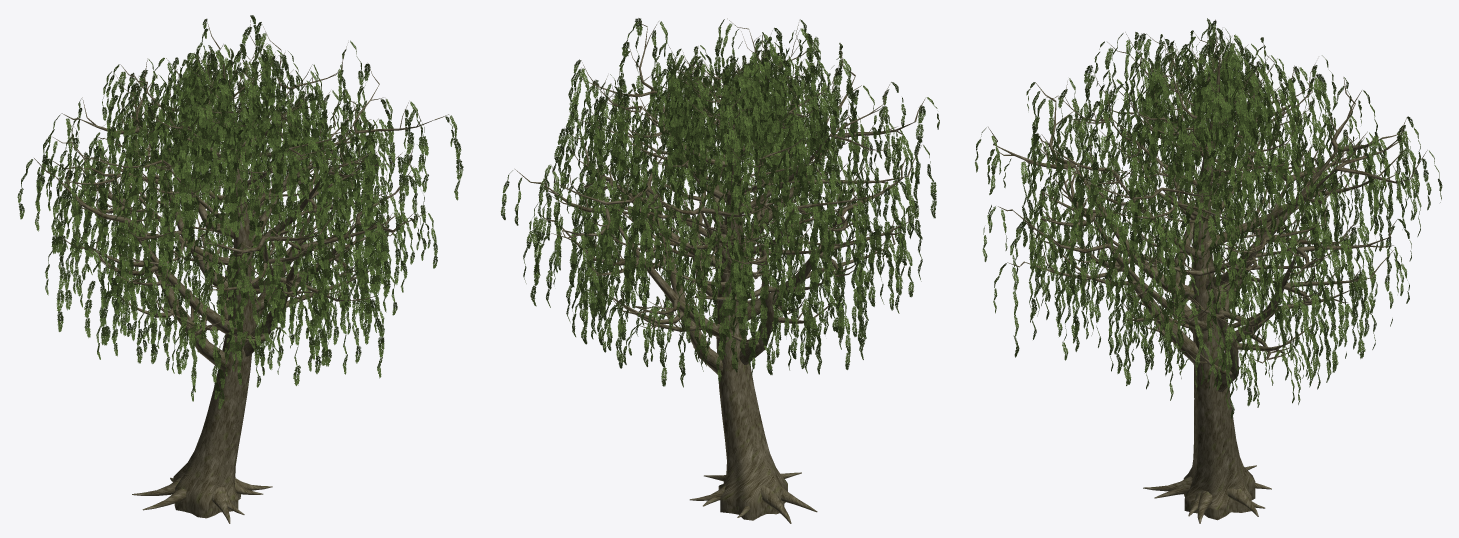
The model's file is RiverWillow.fbx.
3 views of the same model, side by side, from view 1: azimuth 30°, elevation 25°; view 2: azimuth 150°, elevation 25°; view 3: azimuth 270°, elevation 25° (orthographic). The views are drawn at different scales.
Visible parts, largest first — view 1: RiverWillow_LOD0; view 2: RiverWillow_LOD0; view 3: RiverWillow_LOD0.
Boxes of the visible parts, bbox=[...] form: RiverWillow_LOD0: bbox=[17, 15, 463, 523]; RiverWillow_LOD0: bbox=[500, 18, 939, 523]; RiverWillow_LOD0: bbox=[975, 18, 1442, 523].
Size of what is drawn, in the model's own units: 1673 by 2060 by 1836.
2 materials, 2 textured.
